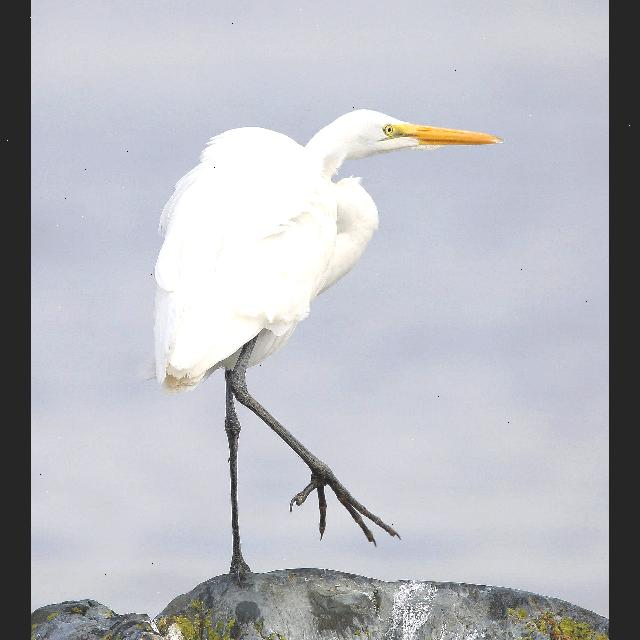egret: (145, 100, 518, 582)
